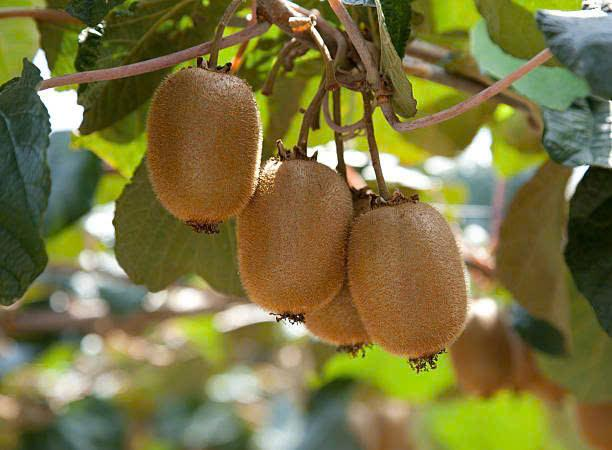kiwi: (346, 183, 479, 372), (254, 133, 362, 345), (153, 60, 260, 238)
